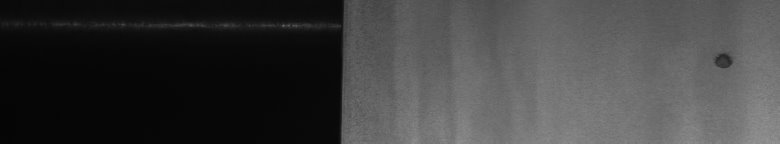fi: (708, 48, 736, 72)
